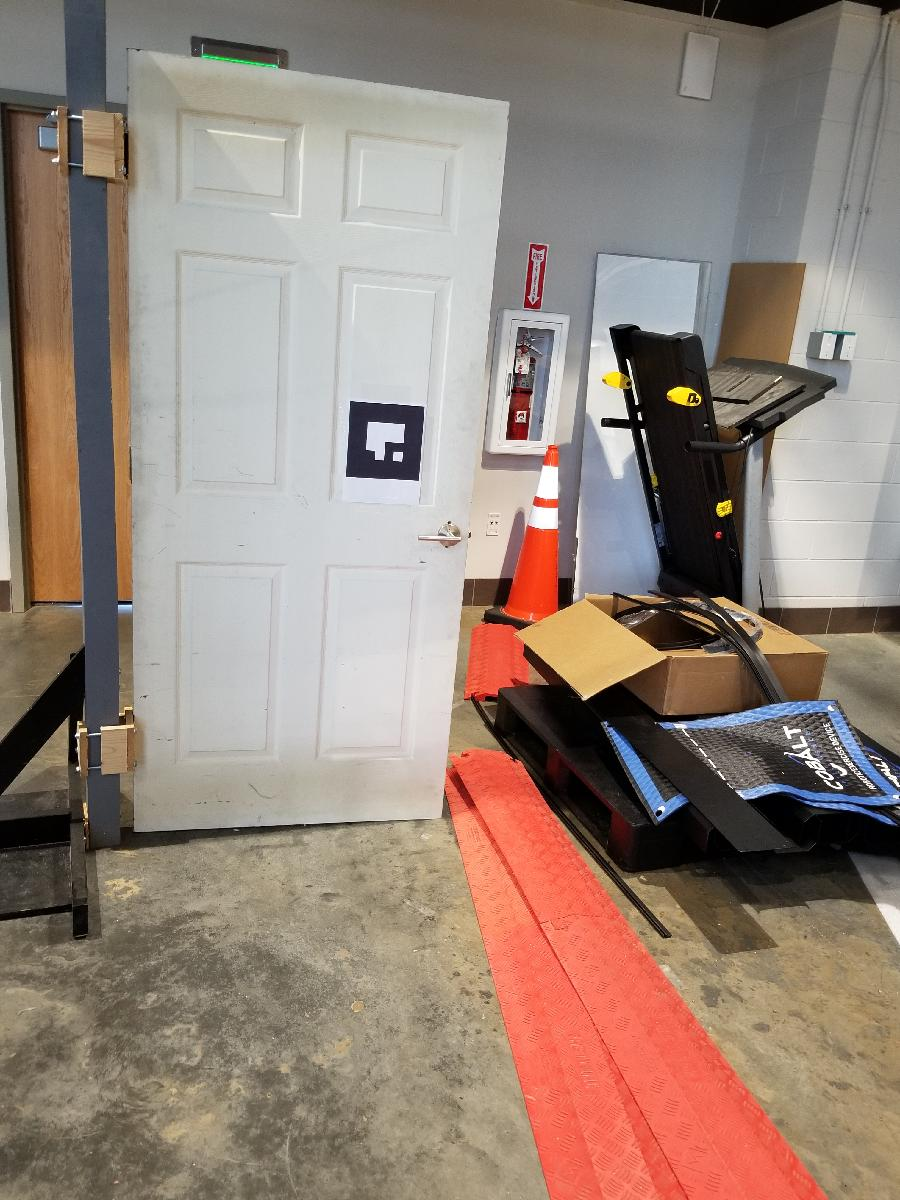door: (114, 44, 515, 847)
doorHandle: (412, 520, 474, 554)
